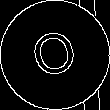O_S: (26, 24, 84, 86)
